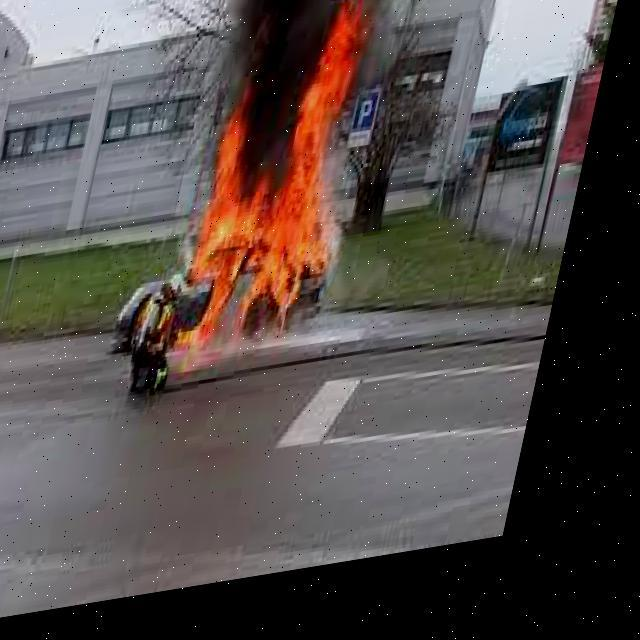Fire: (153, 0, 397, 369)
